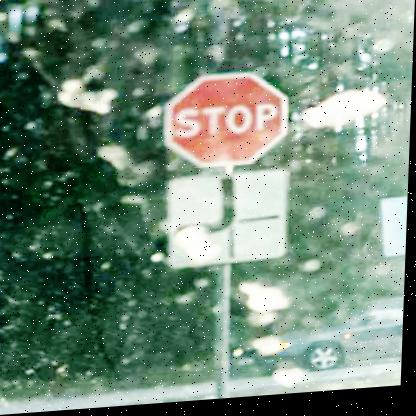Stop Sign: (165, 70, 293, 177)
